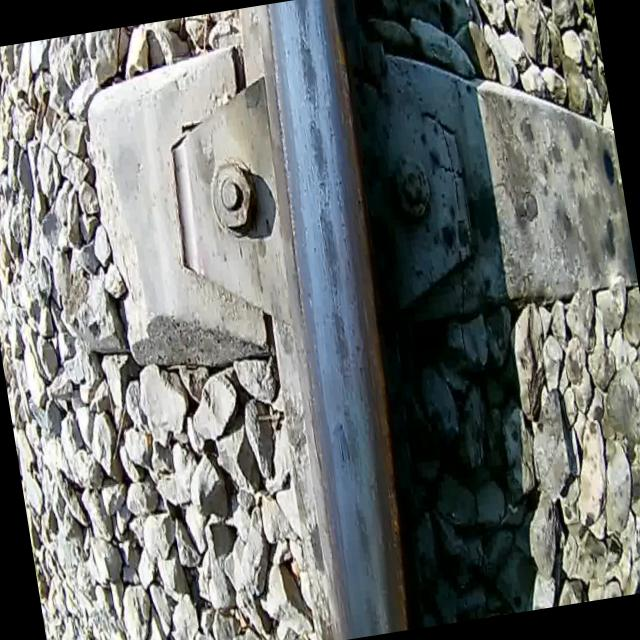Cracks: (332, 418, 358, 488), (294, 2, 316, 52), (306, 72, 326, 127), (313, 196, 331, 254), (323, 258, 342, 312)
Squats: (328, 401, 375, 501), (310, 200, 348, 310), (300, 114, 338, 215), (326, 302, 360, 406), (346, 496, 384, 588), (290, 29, 328, 120), (358, 588, 388, 637), (288, 0, 323, 42)
